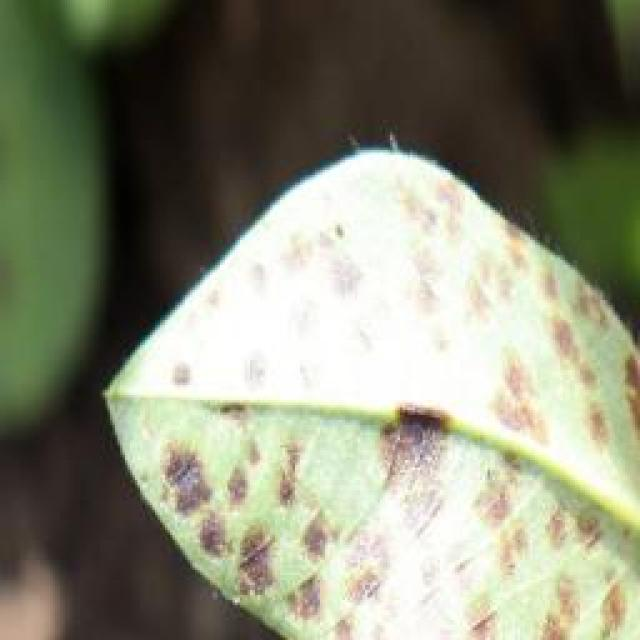Whitefly: (45, 175, 640, 640)
